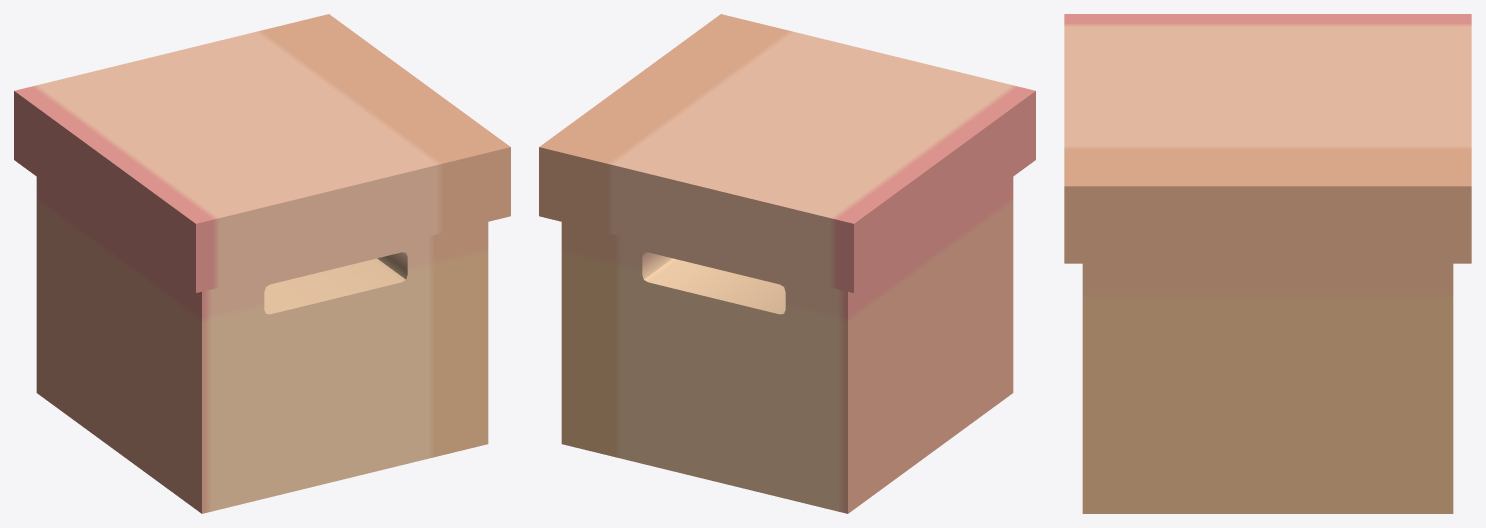
Rendered from Office_Shelf_Box.fbx.
3 renders of one model, left to right at view 1: azimuth 30°, elevation 25°; view 2: azimuth 150°, elevation 25°; view 3: azimuth 270°, elevation 25°, orthographic. The views are drawn at different scales.
Visible parts, largest first — view 1: Office_Shelf_Box; view 2: Office_Shelf_Box; view 3: Office_Shelf_Box.
Boxes of the visible parts, bbox=[...] form: Office_Shelf_Box: bbox=[14, 14, 510, 513]; Office_Shelf_Box: bbox=[539, 14, 1035, 513]; Office_Shelf_Box: bbox=[1064, 14, 1471, 513].
Size of the model in its own units: 22 by 20 by 22.
